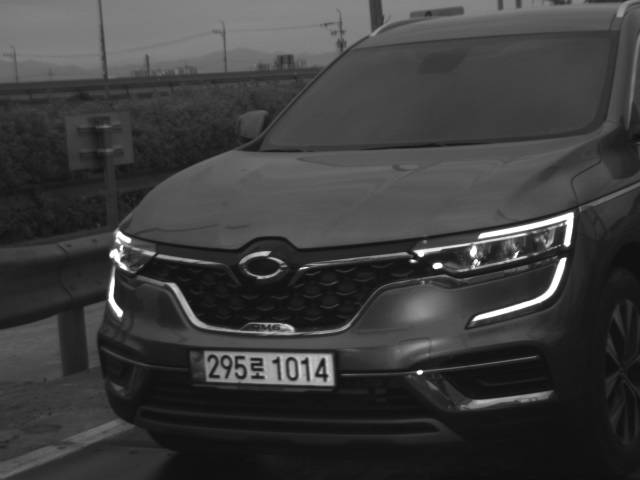car: (96, 2, 640, 480)
plate: (186, 345, 339, 390)
